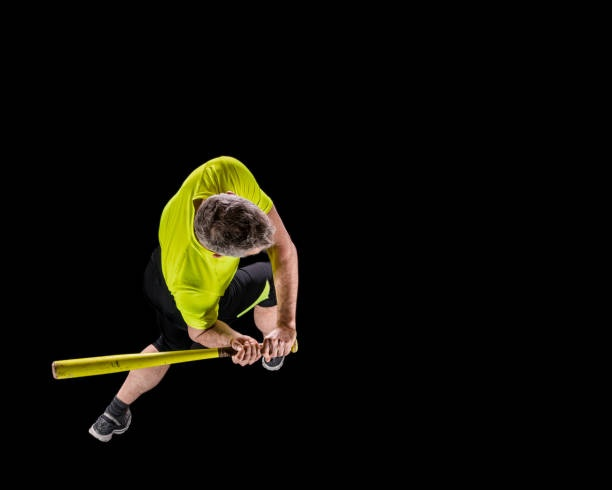bita: (50, 333, 295, 385)
